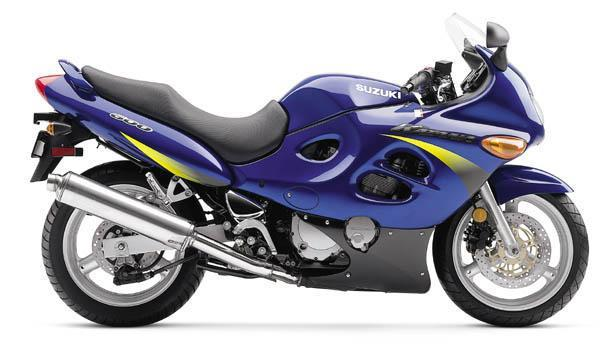motorcycle: (19, 1, 601, 344)
